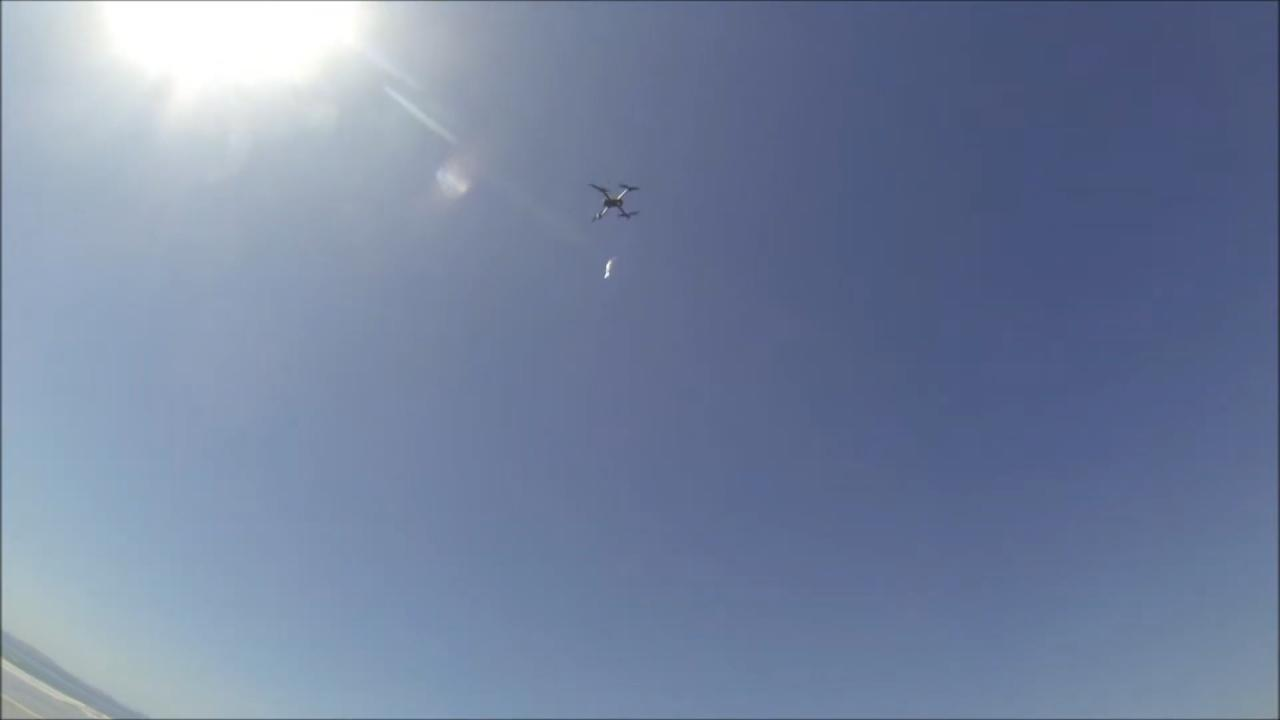Drone: (576, 170, 652, 234)
